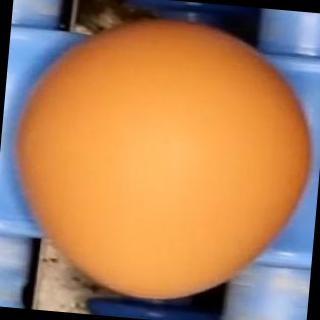Telur: (1, 4, 320, 315)
